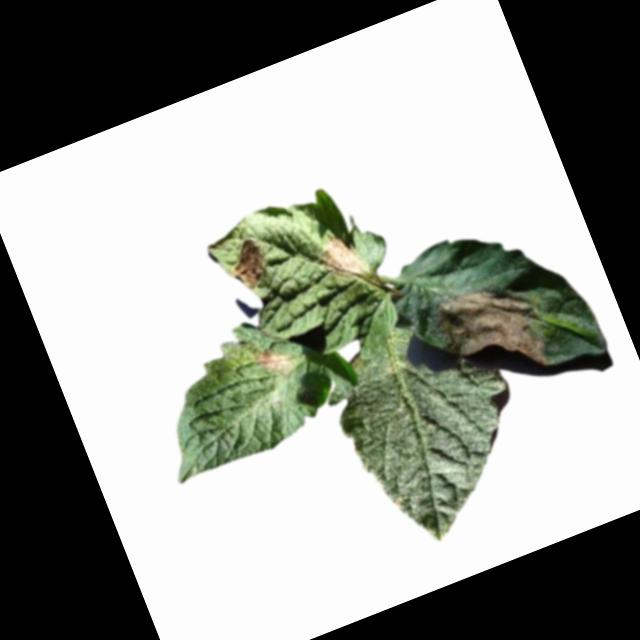Late_blight: (430, 266, 557, 397), (316, 227, 372, 289), (220, 236, 275, 295), (250, 337, 299, 388)
healthy: (312, 298, 552, 561)
